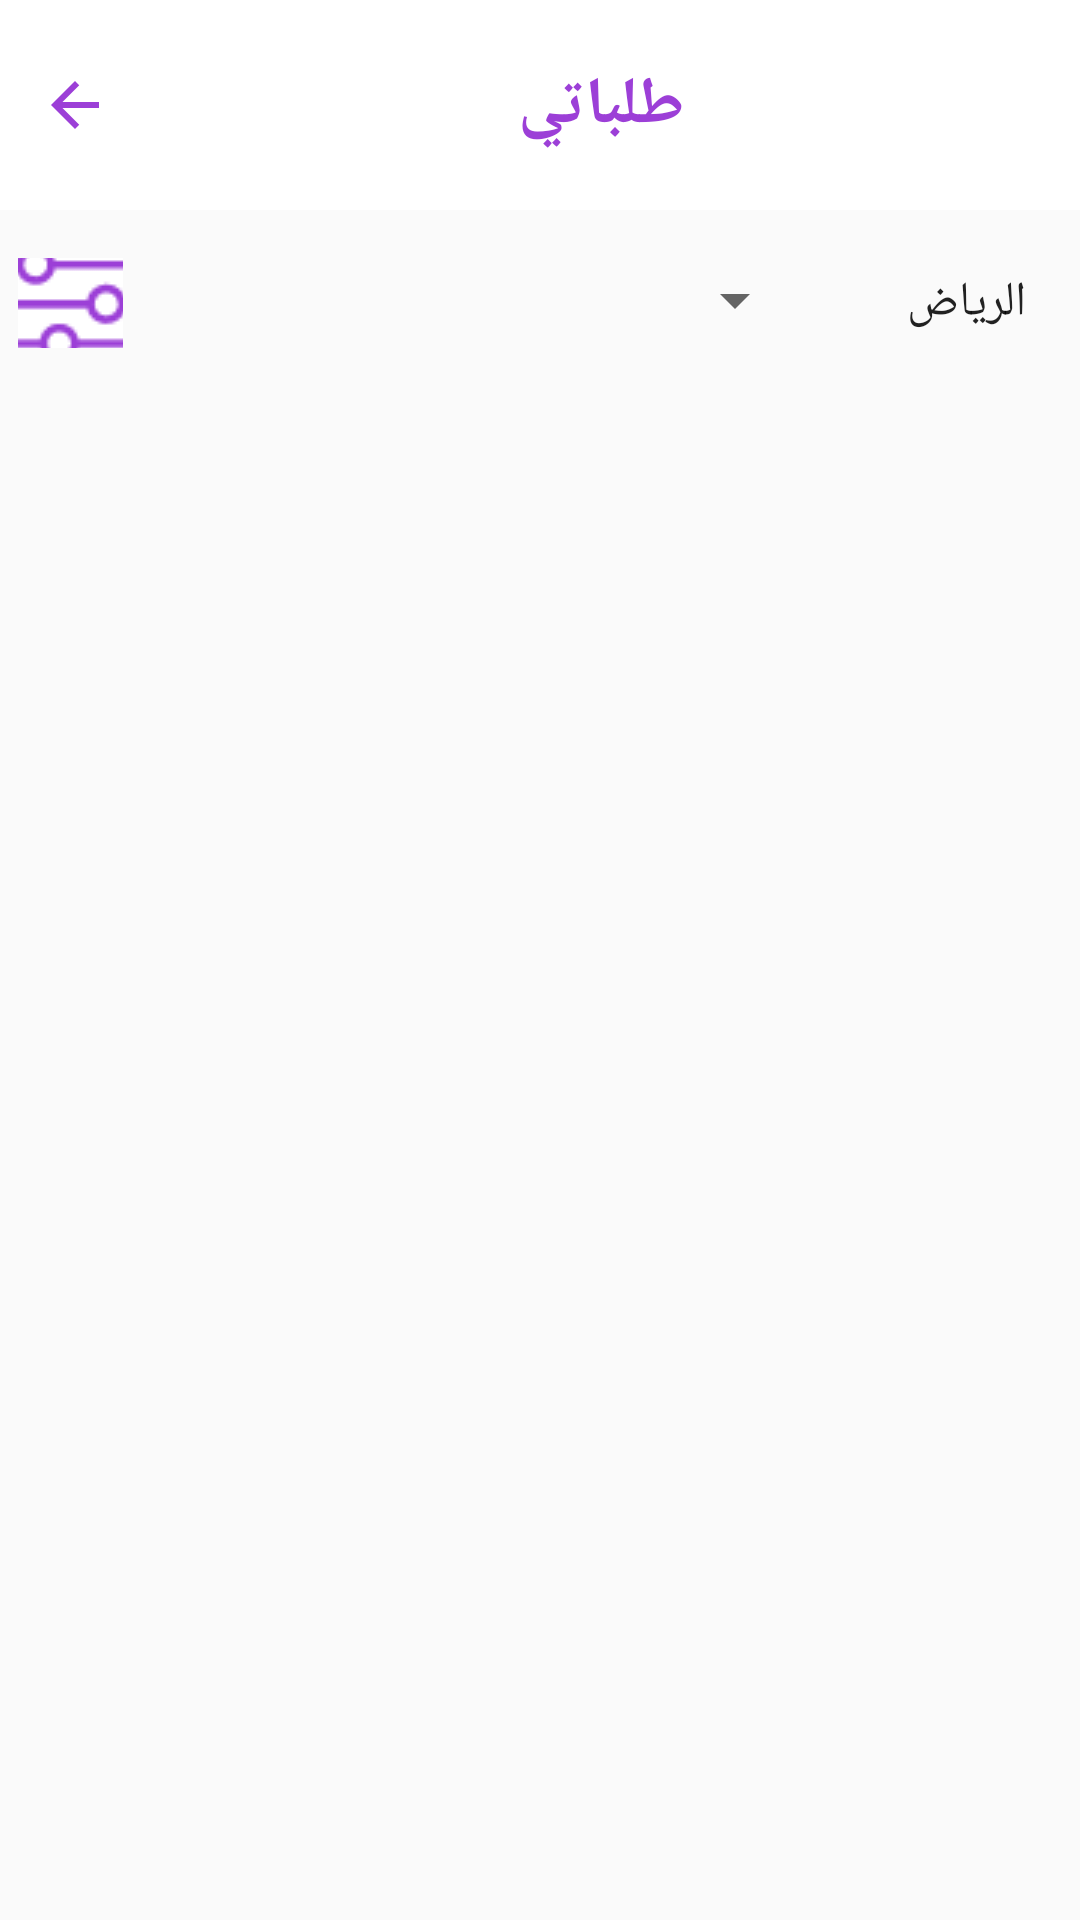

Icon click points for this 1080x1920 phone screenshot, format [x,y]:
back: [75,105]
filter: [70,303]
